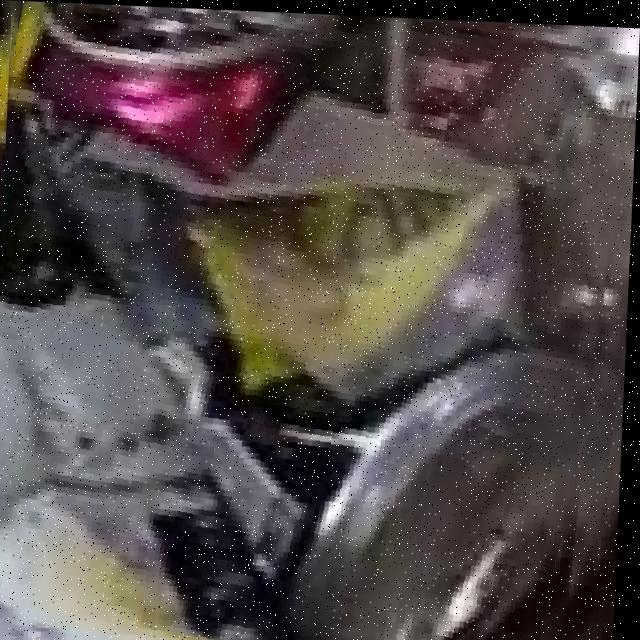can: (4, 1, 602, 640)
